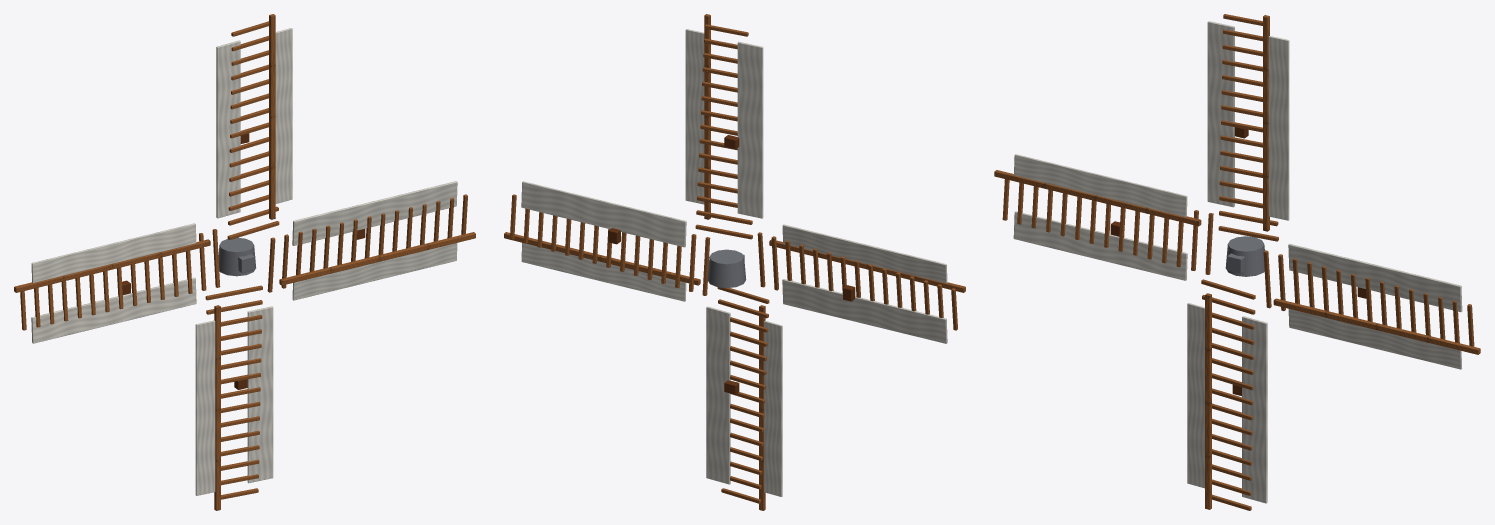
The model's file is mill-sail-cross.glb.
3 renders of one model, left to right at view 1: azimuth 30°, elevation 25°; view 2: azimuth 150°, elevation 25°; view 3: azimuth 330°, elevation 25°, orthographic. The views are drawn at different scales.
Visible parts, largest first — view 1: sail-cross/plaster, sail-cross/pine, sail-cross/iron; view 2: sail-cross/plaster, sail-cross/pine, sail-cross/iron, sail-cross/oak; view 3: sail-cross/plaster, sail-cross/pine, sail-cross/iron.
Boxes of the visible parts, left/top/right/bottom form: sail-cross/plaster: left=31, top=28, right=457, bottom=495; sail-cross/pine: left=14, top=14, right=475, bottom=510; sail-cross/iron: left=218, top=237, right=256, bottom=276; sail-cross/plaster: left=521, top=29, right=947, bottom=496; sail-cross/pine: left=504, top=14, right=965, bottom=510; sail-cross/iron: left=707, top=249, right=746, bottom=288; sail-cross/oak: left=608, top=135, right=855, bottom=394; sail-cross/plaster: left=1013, top=21, right=1462, bottom=503; sail-cross/pine: left=994, top=14, right=1480, bottom=510; sail-cross/iron: left=1225, top=236, right=1264, bottom=276.
Bounding box in the file's own units: 10.4 × 10.4 × 0.83.
Materials: 4 (3 with a texture image).
